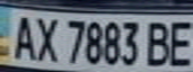3: (118, 18, 145, 68)
7: (60, 16, 84, 64)
8: (81, 17, 106, 66), (103, 18, 124, 66)
A: (6, 11, 39, 61)
B: (142, 17, 175, 68)
E: (163, 17, 193, 68)
X: (30, 12, 60, 63)
